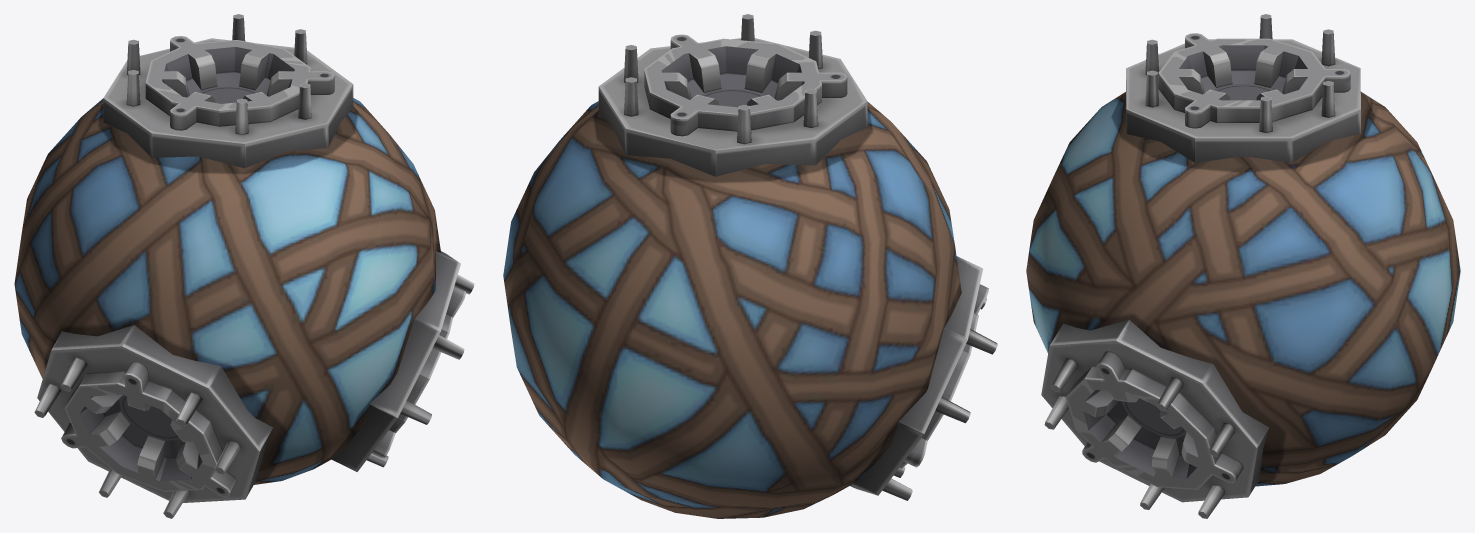
File: Ice Grenade.glb
3 views of the same model, side by side, from view 1: azimuth 30°, elevation 25°; view 2: azimuth 150°, elevation 25°; view 3: azimuth 270°, elevation 25° (orthographic). The views are drawn at different scales.
Parts seen in each view (by area): view 1: SkillObj_Aloy_IceGrenade_LOD0; view 2: SkillObj_Aloy_IceGrenade_LOD0; view 3: SkillObj_Aloy_IceGrenade_LOD0.
Boxes of the visible parts, x1,y1,x2,y2 form: SkillObj_Aloy_IceGrenade_LOD0: (14, 14, 474, 518); SkillObj_Aloy_IceGrenade_LOD0: (503, 14, 997, 518); SkillObj_Aloy_IceGrenade_LOD0: (1026, 14, 1460, 518).
Size of the model in its own units: 0.1503 by 0.1417 by 0.136.
Materials: 1 (1 with a texture image).
